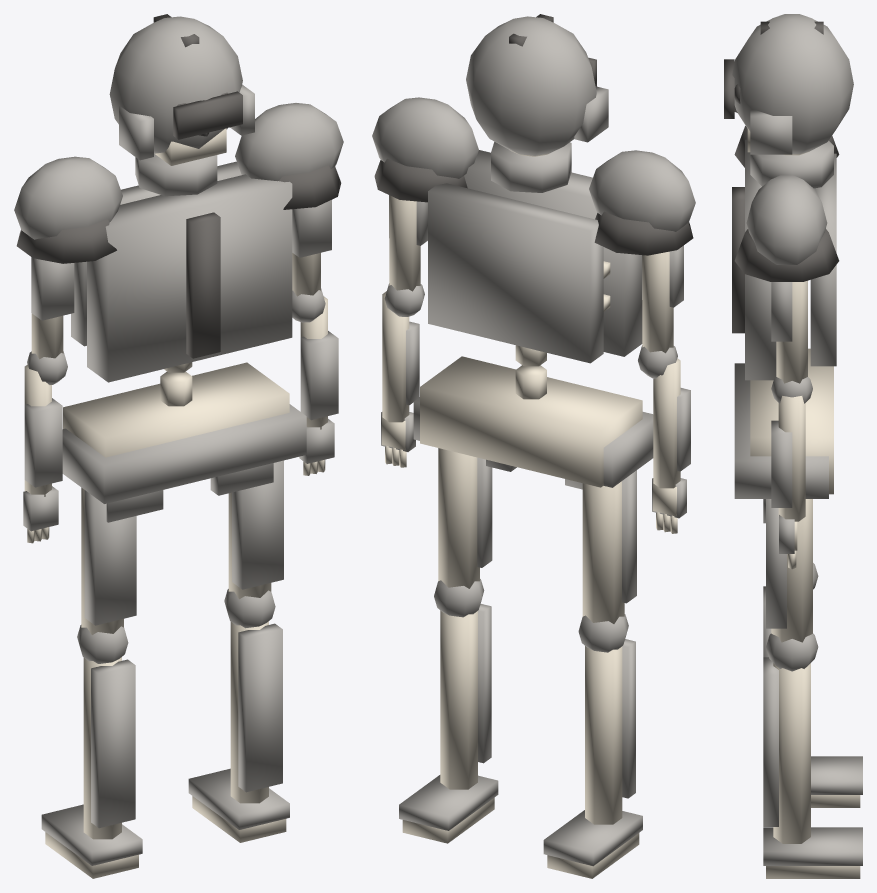
The model's file is armored_skeleton.glb.
3 views of the same model, side by side, from view 1: azimuth 30°, elevation 25°; view 2: azimuth 150°, elevation 25°; view 3: azimuth 270°, elevation 25° (orthographic).
Parts seen in each view (by area): view 1: ArmoredSkeleton; view 2: ArmoredSkeleton; view 3: ArmoredSkeleton.
Part boxes in pixels (x1=…): ArmoredSkeleton: x1=14, y1=14, x2=343, y2=878; ArmoredSkeleton: x1=372, y1=14, x2=695, y2=878; ArmoredSkeleton: x1=724, y1=14, x2=862, y2=878.
Bounding box in the file's own units: 0.3791 × 0.9413 × 0.1458.
